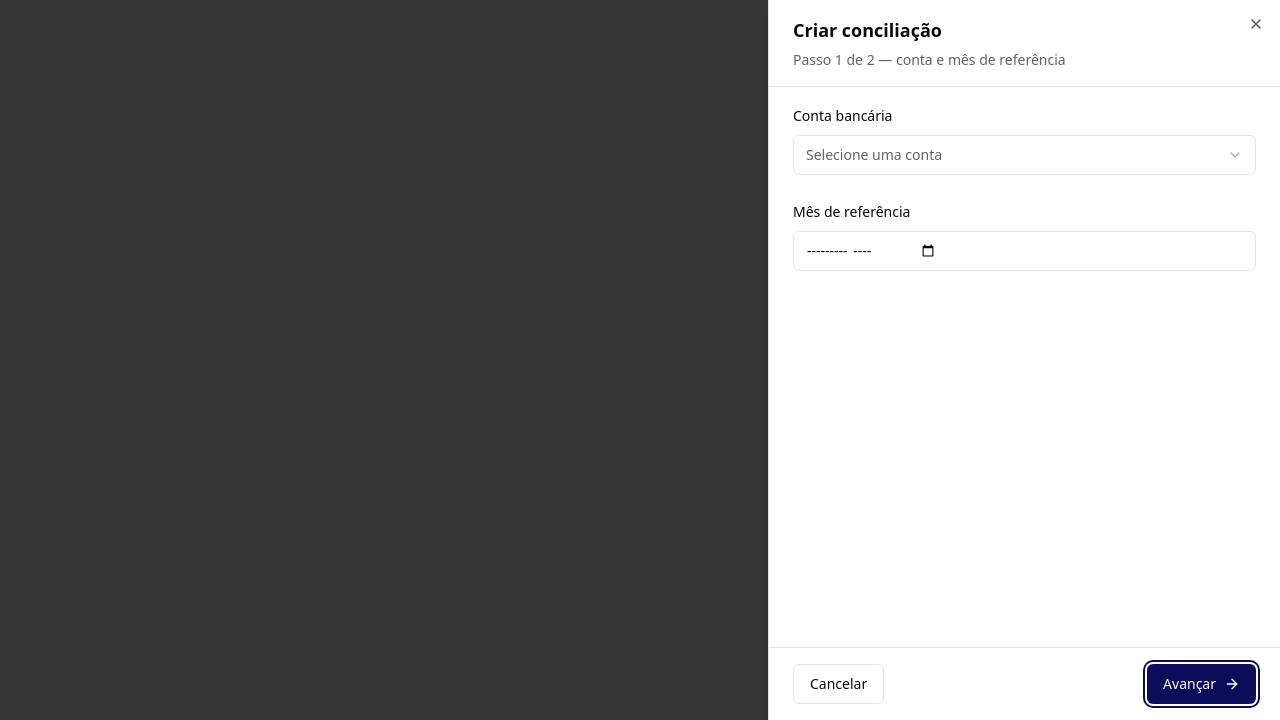
Scenario: Gaveta — o que é cada bloco do Step 2 (86e3n70qj) › o resumo do topo diz que é a conciliação, com conta e mês rotulados
Click the dropdown named "Conta bancária": (874, 154) [793,135,1256,175]
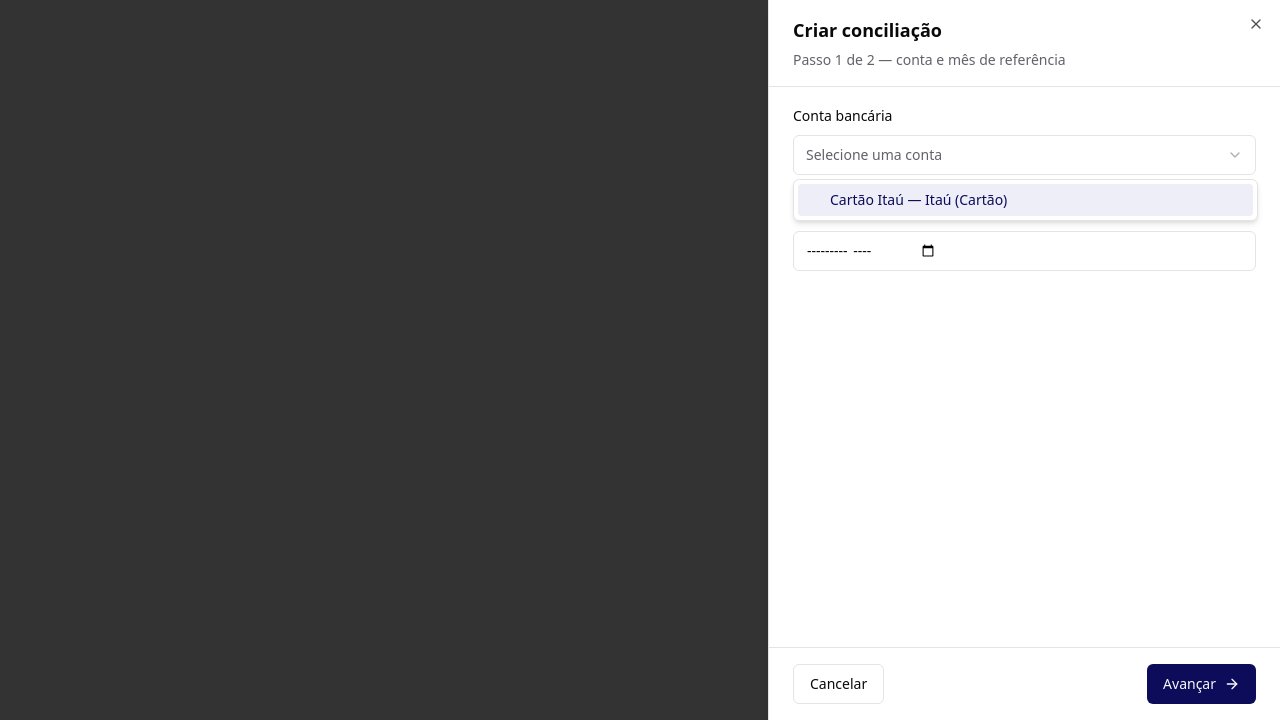
Click the option "Cartão Itaú — Itaú (Cartão)": (919, 200) [798,184,1253,216]
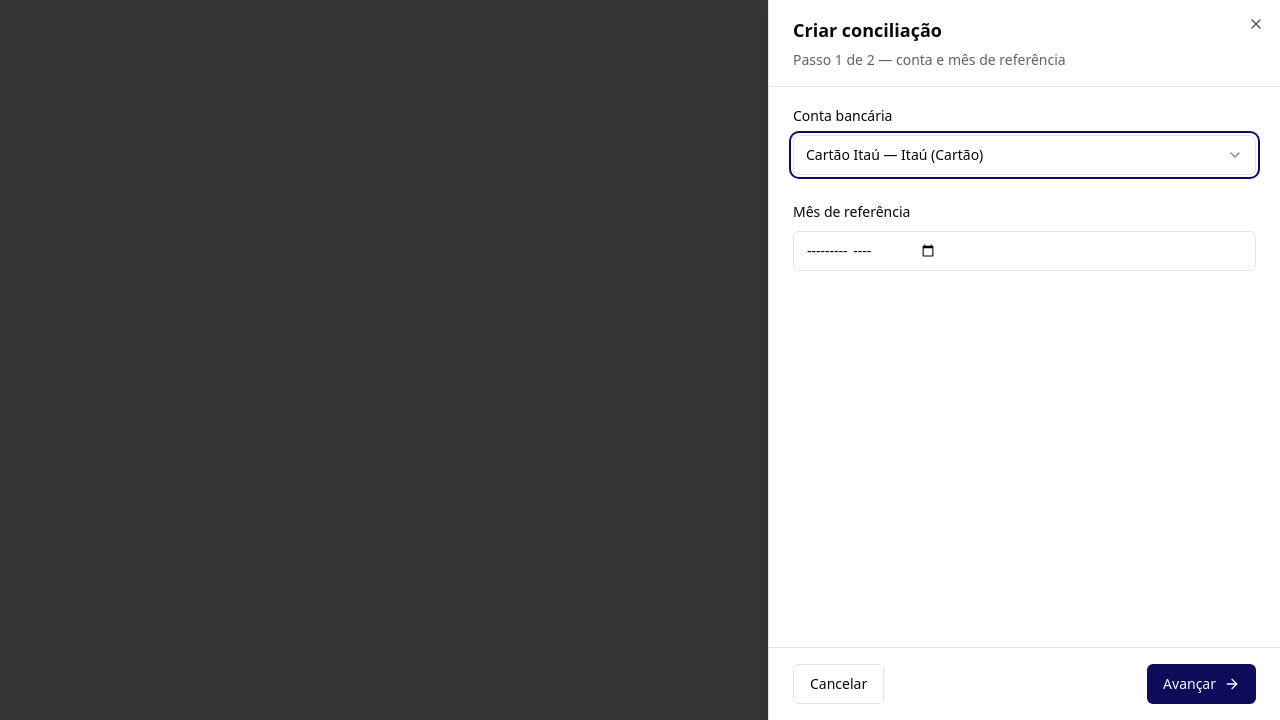
In the field labelled "Mês de referência": (1024, 251) [793,231,1256,271], type "2026-06"
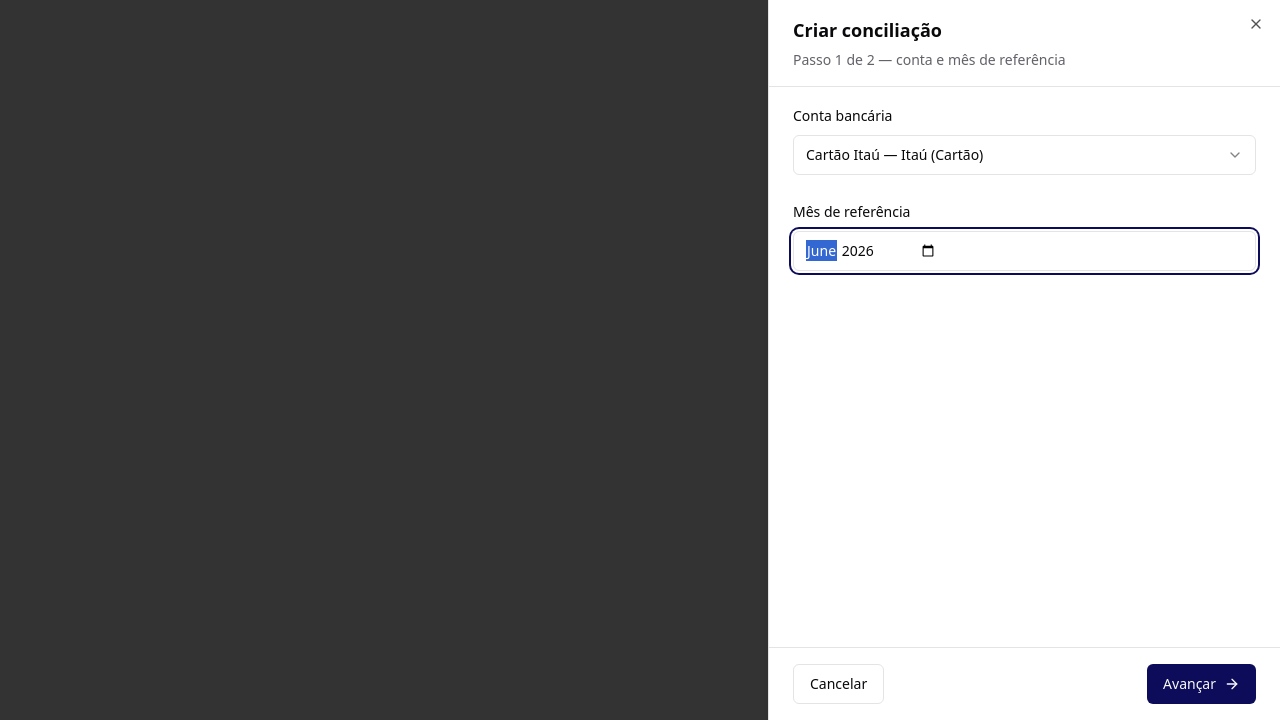
Click the button "Avançar": (1202, 684) [1147,664,1256,704]
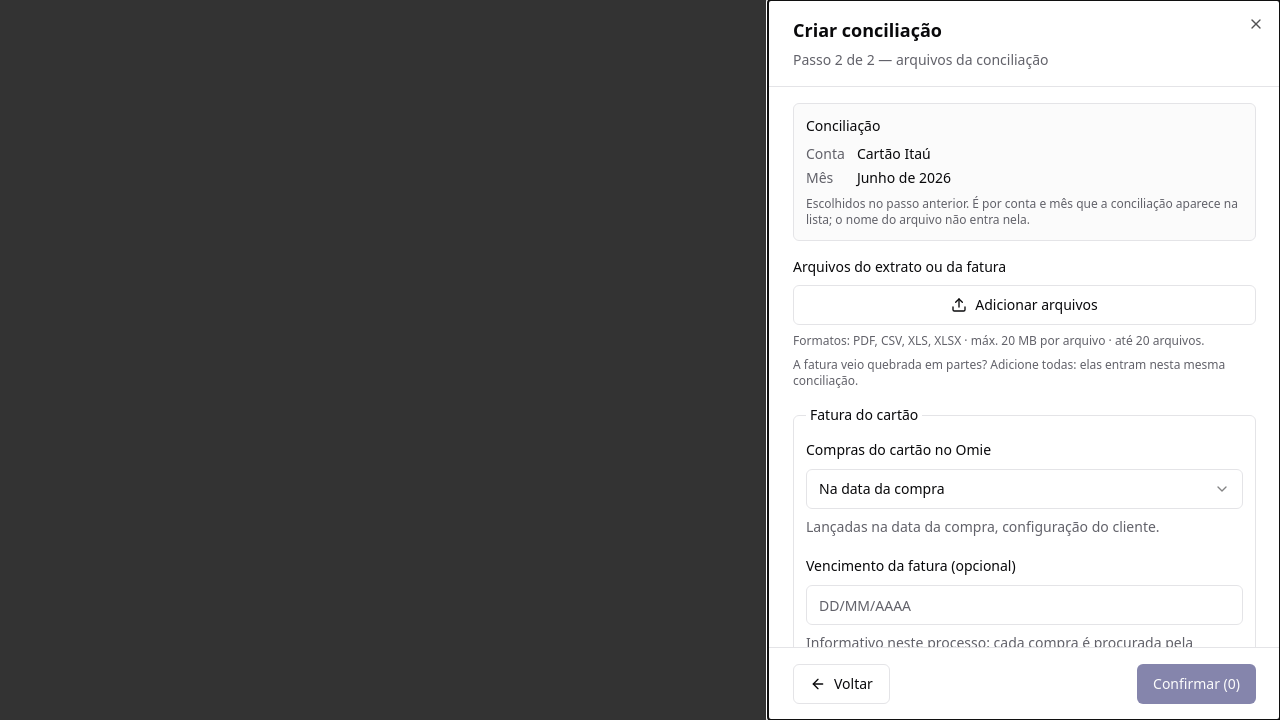
Expected: the text "Cartão Itaú" is shown, [857,144,931,163]
Expected: the file field labelled "Adicionar arquivos" is shown, [793,285,1256,325]
Expected: the text "Junho de 2026" is shown, [857,168,951,187]
